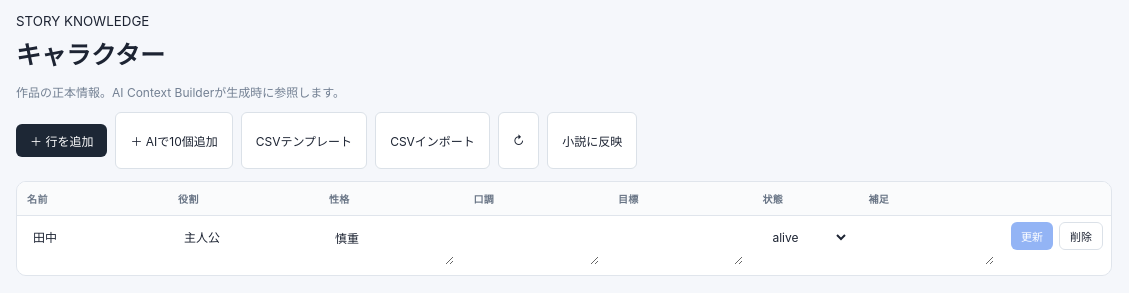
Test: CharacterPanel (generic EntityPanel) › editing a cell does not save by itself; the 更新 button saves the whole row via PUT
Expected: the button "更新" is disabled, x1=1011 y1=222 x2=1053 y2=250
Replace the text in the 1st field showing "田中" with "田中太郎" at [92, 236], box x1=25 y1=222 x2=160 y2=251
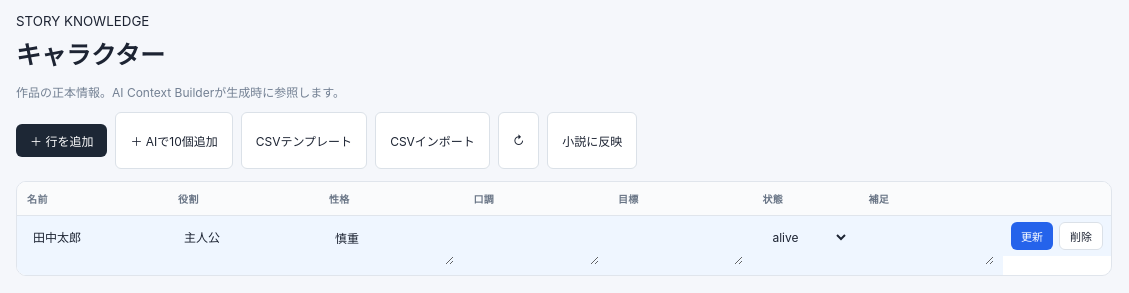
Expected: the button "更新" is enabled
Click the button "更新" at [1032, 236], box x1=1011 y1=222 x2=1053 y2=250
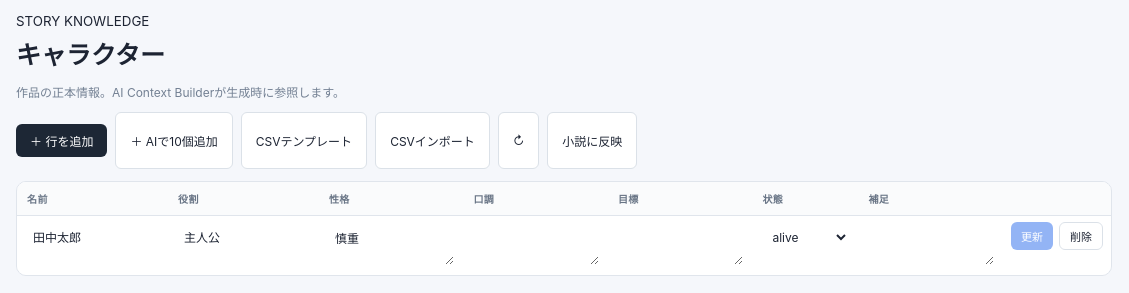
Expected: the button "更新" is disabled, x1=1011 y1=222 x2=1053 y2=250
